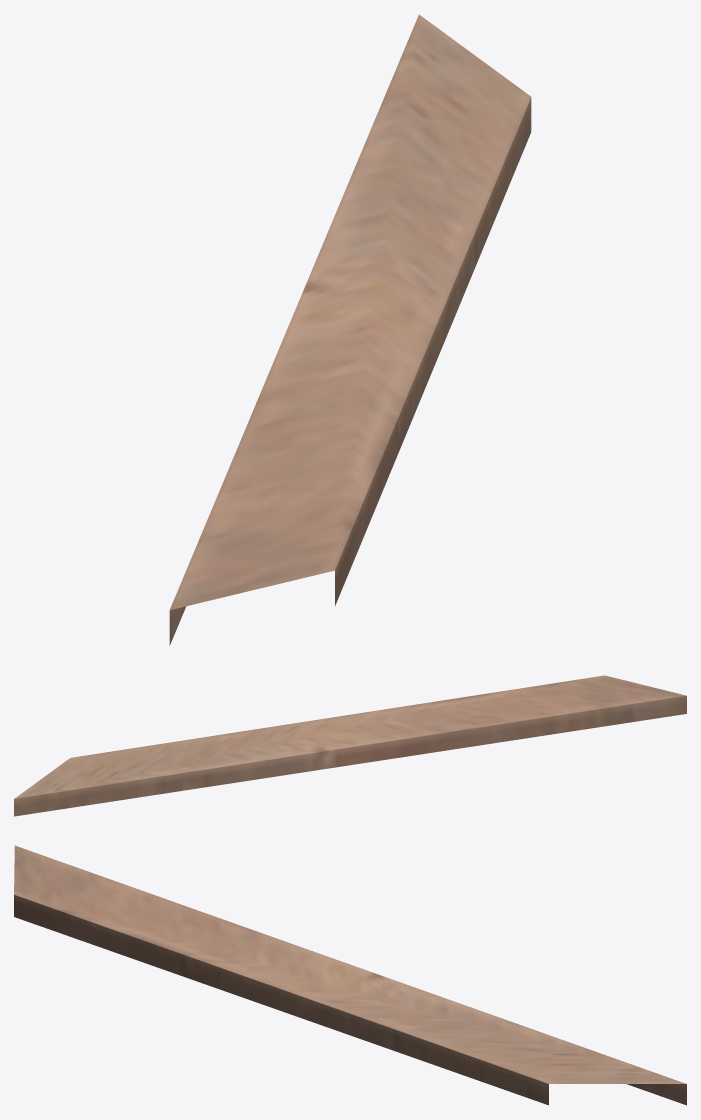
File: yangchunbaixue_04.FBX
3 views of the same model, one above another, from view 1: azimuth 30°, elevation 25°; view 2: azimuth 150°, elevation 25°; view 3: azimuth 270°, elevation 25° (orthographic). The views are drawn at different scales.
Visible parts, largest first — view 1: Box03; view 2: Box03; view 3: Box03.
Part boxes in pixels (x1,y1,x2,y2): Box03: (169,14,531,645); Box03: (14,675,686,816); Box03: (14,845,686,1105).
Bounding box in the file's own units: 2.22 × 0.0966 × 2.65.
